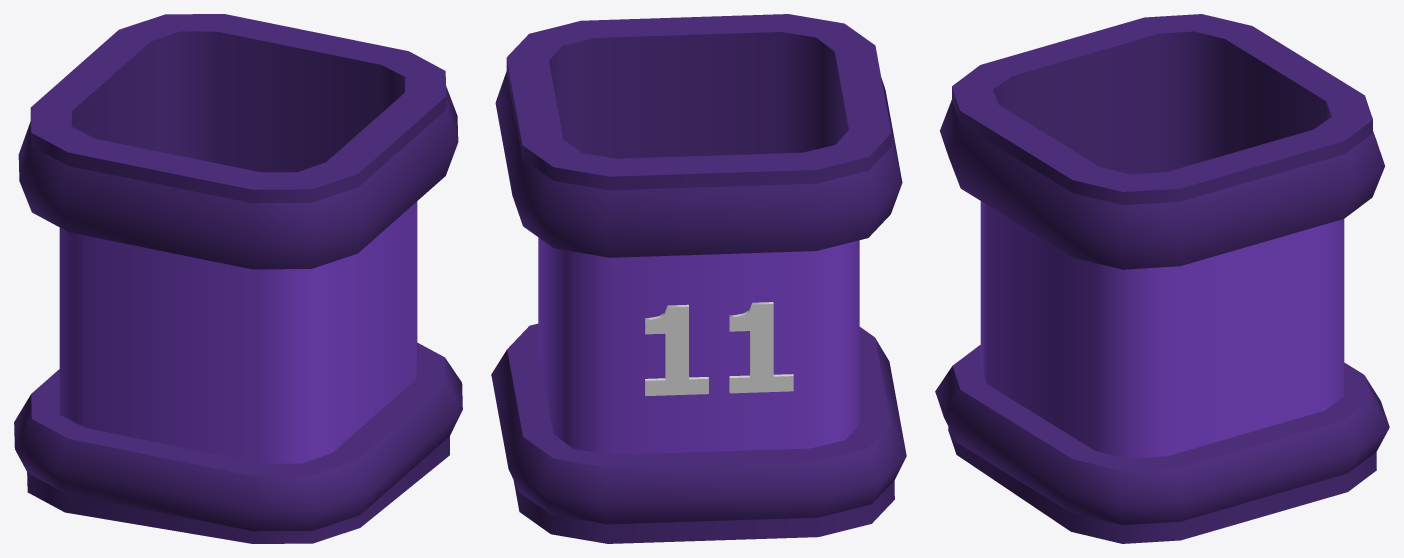
Rendered from SM_bucket.fbx.
3 views of the same model, side by side, from view 1: azimuth 30°, elevation 25°; view 2: azimuth 150°, elevation 25°; view 3: azimuth 270°, elevation 25° (orthographic). The views are drawn at different scales.
Visible parts, largest first — view 1: SM_bucket; view 2: SM_bucket; view 3: SM_bucket.
Boxes of the visible parts, x1,y1,x2,y2 form: SM_bucket: (14, 14, 462, 543); SM_bucket: (491, 14, 906, 543); SM_bucket: (935, 14, 1389, 543).
Size of the model in its own units: 2.54 by 2.16 by 2.54.
